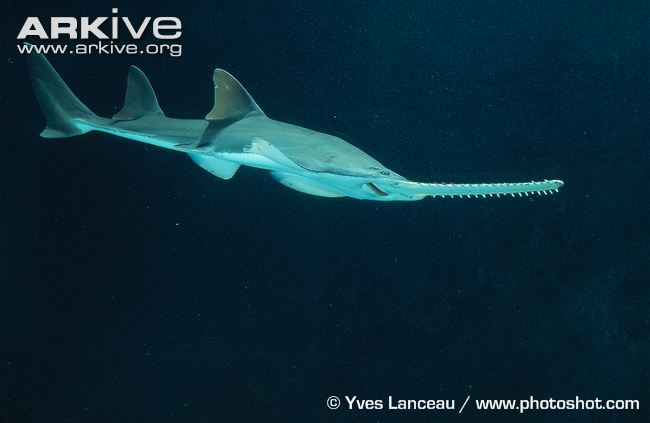shark: (11, 37, 572, 236)
